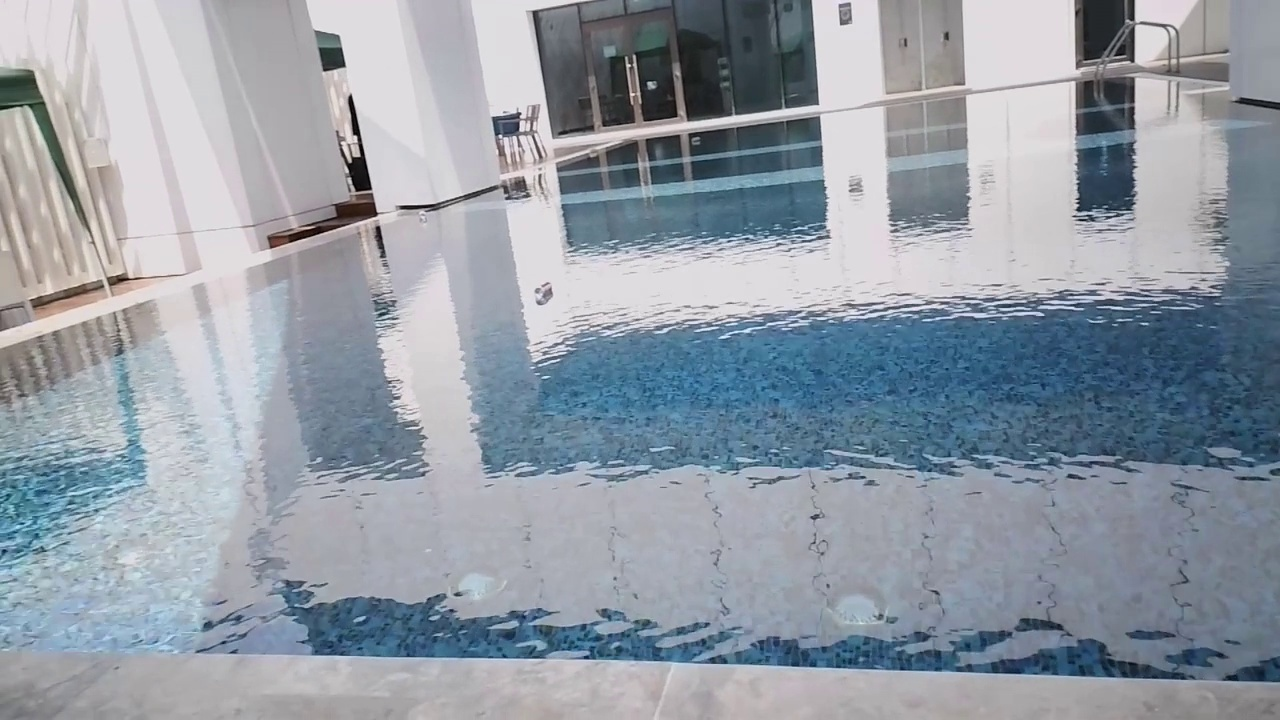debris: (527, 275, 560, 307), (686, 133, 705, 147), (415, 208, 428, 226), (585, 146, 600, 159)
